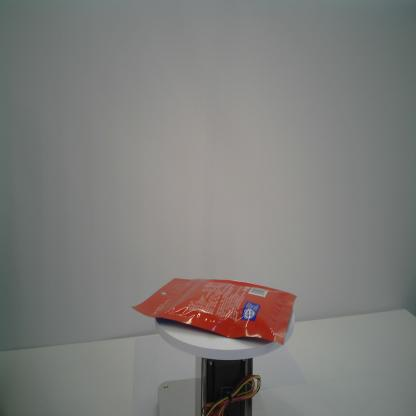Dried Fruit: (132, 277, 299, 346)
